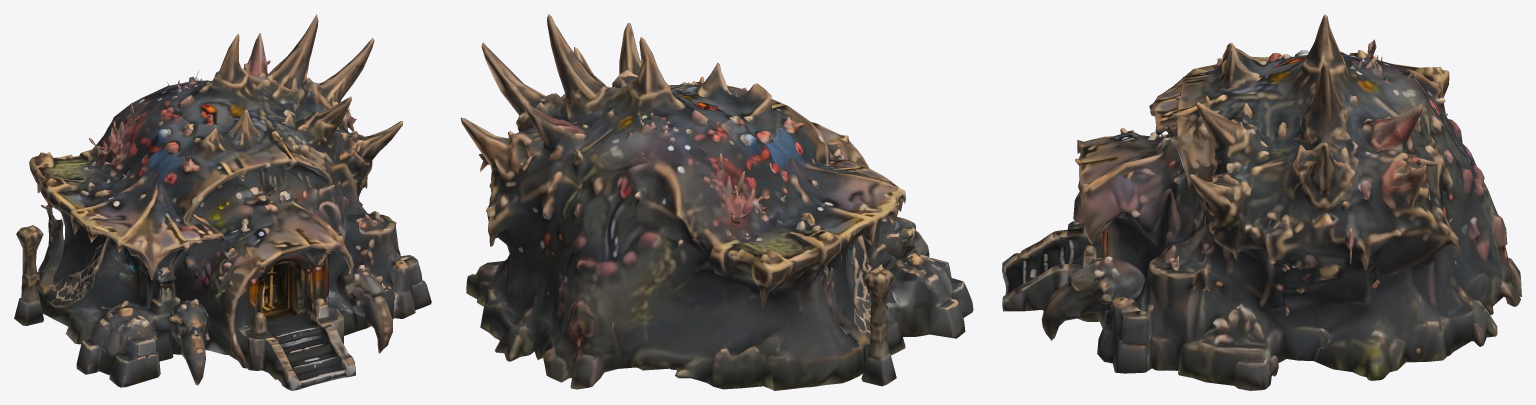
3 renders of one model, left to right at view 1: azimuth 30°, elevation 25°; view 2: azimuth 150°, elevation 25°; view 3: azimuth 270°, elevation 25°, orthographic. The views are drawn at different scales.
Visible parts, largest first — view 1: tripo_node_cbcc6c79-6127-4bac-9d54-1ce1a6348b74; view 2: tripo_node_cbcc6c79-6127-4bac-9d54-1ce1a6348b74; view 3: tripo_node_cbcc6c79-6127-4bac-9d54-1ce1a6348b74.
Part boxes in pixels (x1,y1,x2,y2): tripo_node_cbcc6c79-6127-4bac-9d54-1ce1a6348b74: [14, 14, 431, 390]; tripo_node_cbcc6c79-6127-4bac-9d54-1ce1a6348b74: [460, 14, 973, 390]; tripo_node_cbcc6c79-6127-4bac-9d54-1ce1a6348b74: [1002, 14, 1521, 390].
Size of the model in its own units: 3.51 by 2.37 by 3.6.
Materials: 1 (1 with a texture image).
